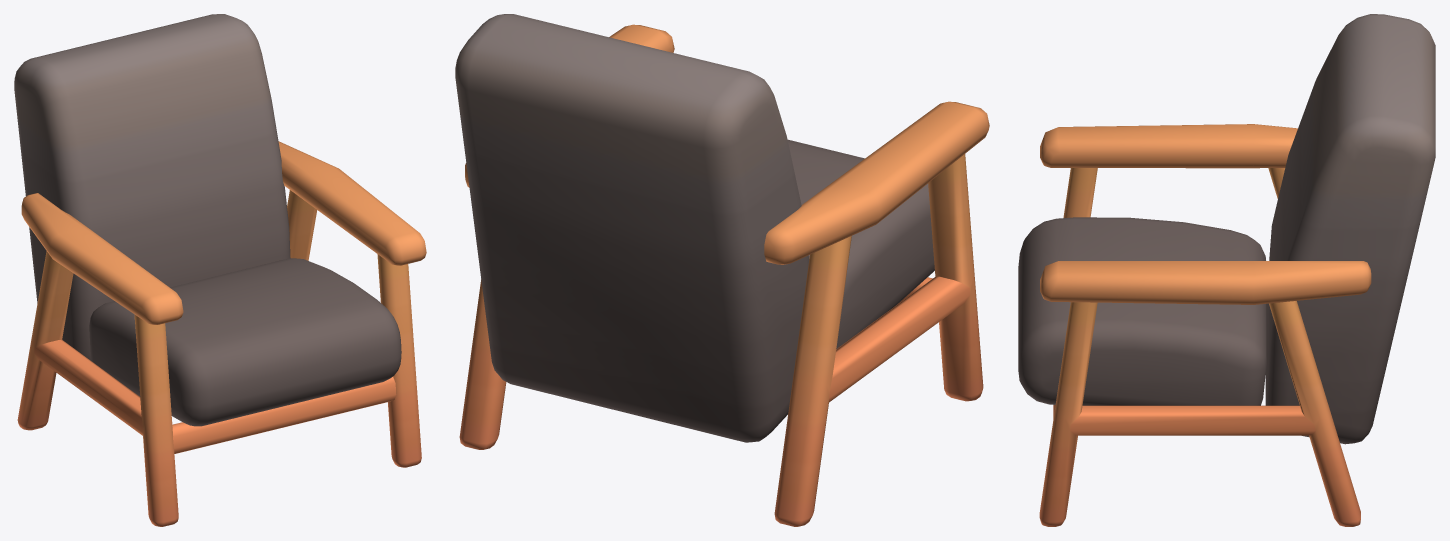
Rendered from Armchair_10.glb.
3 renders of one model, left to right at view 1: azimuth 30°, elevation 25°; view 2: azimuth 150°, elevation 25°; view 3: azimuth 270°, elevation 25°, orthographic. The views are drawn at different scales.
Visible parts, largest first — view 1: Armchair_10; view 2: Armchair_10; view 3: Armchair_10.
Part boxes in pixels (box(x1,y1,x2,y2)): Armchair_10: box(14, 14, 426, 526); Armchair_10: box(455, 14, 989, 526); Armchair_10: box(1018, 14, 1435, 526).
Size of the model in its own units: 0.8035 by 0.9139 by 0.885.
Materials: 1 (1 with a texture image).
